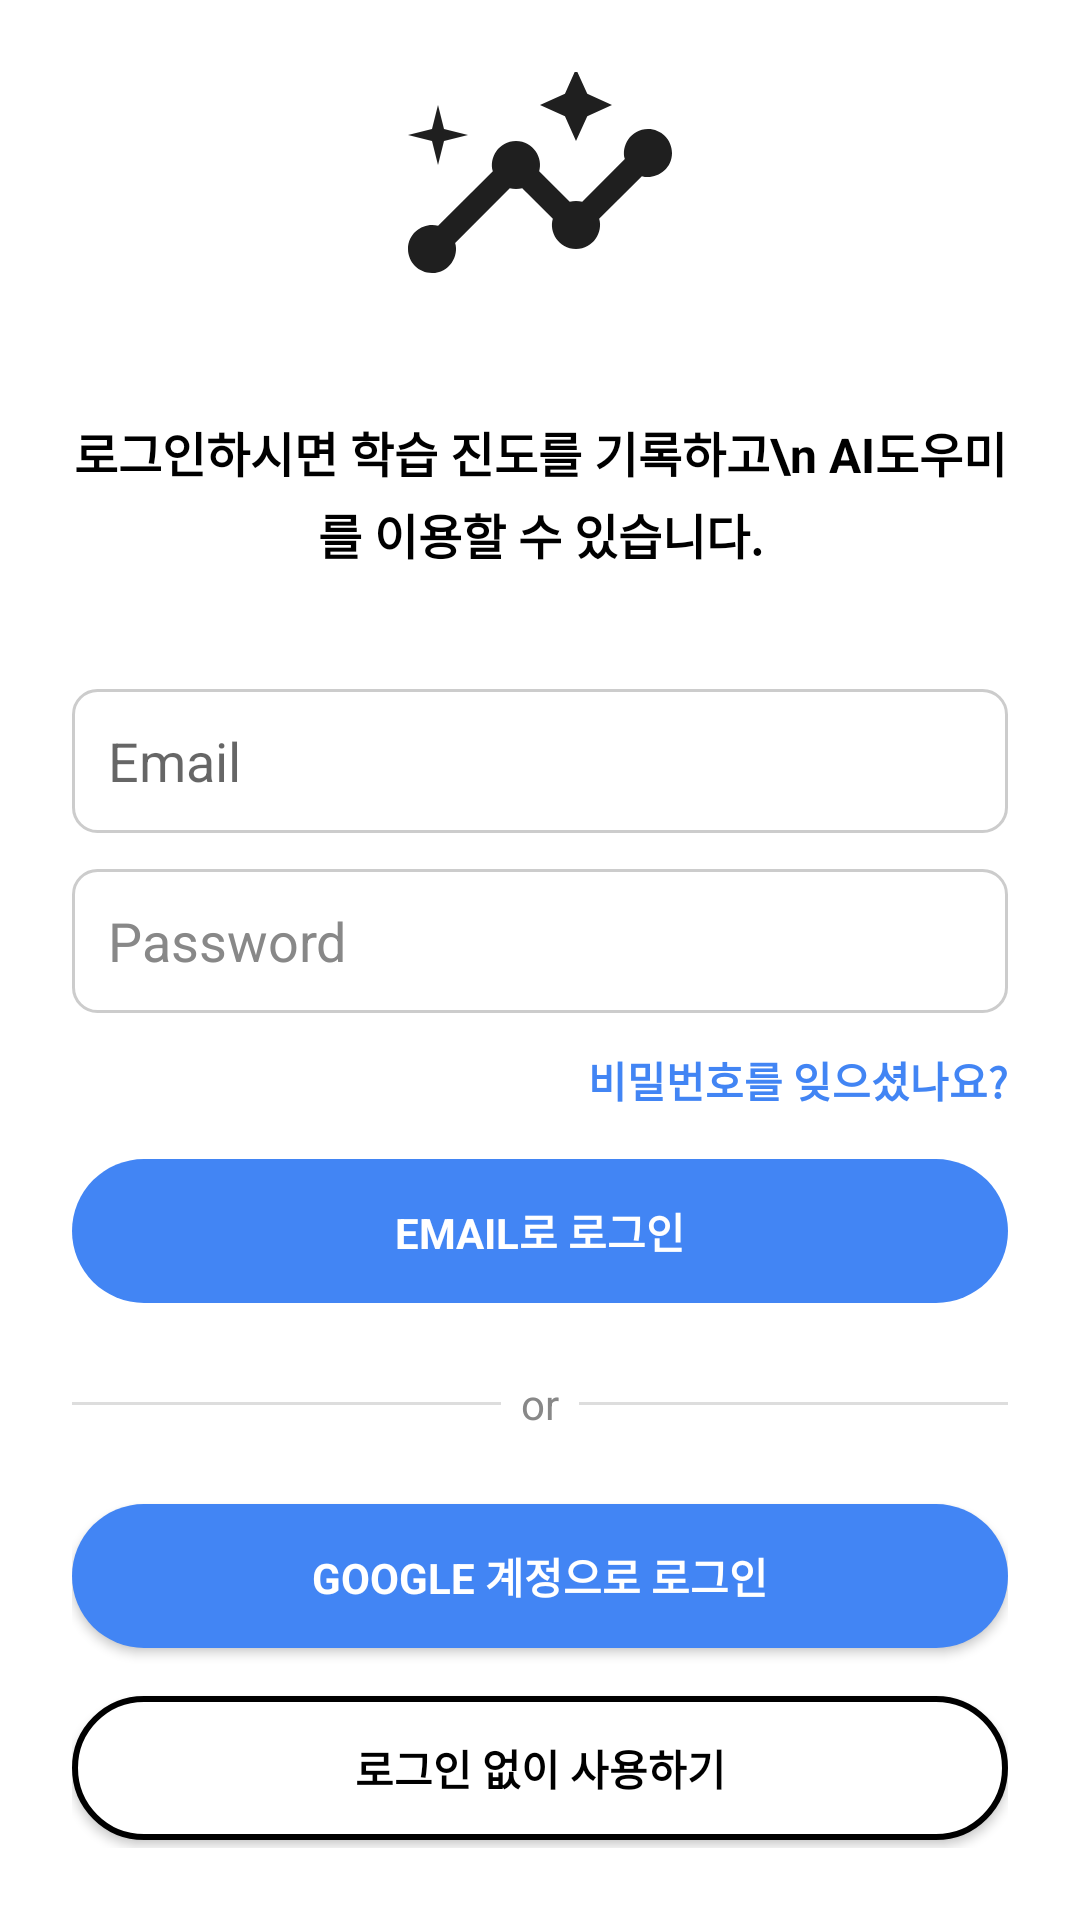

Icon click points for this 1080*1920 phone screenshot, format [x,y]:
학습 아이콘: [540,172]
